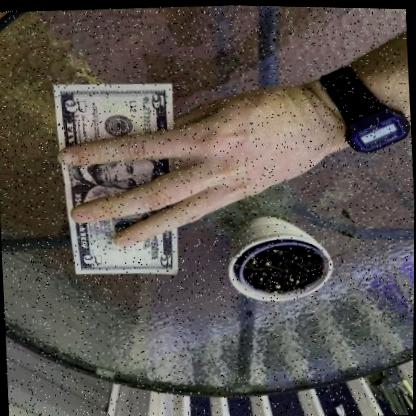five-front: (51, 81, 177, 272)
